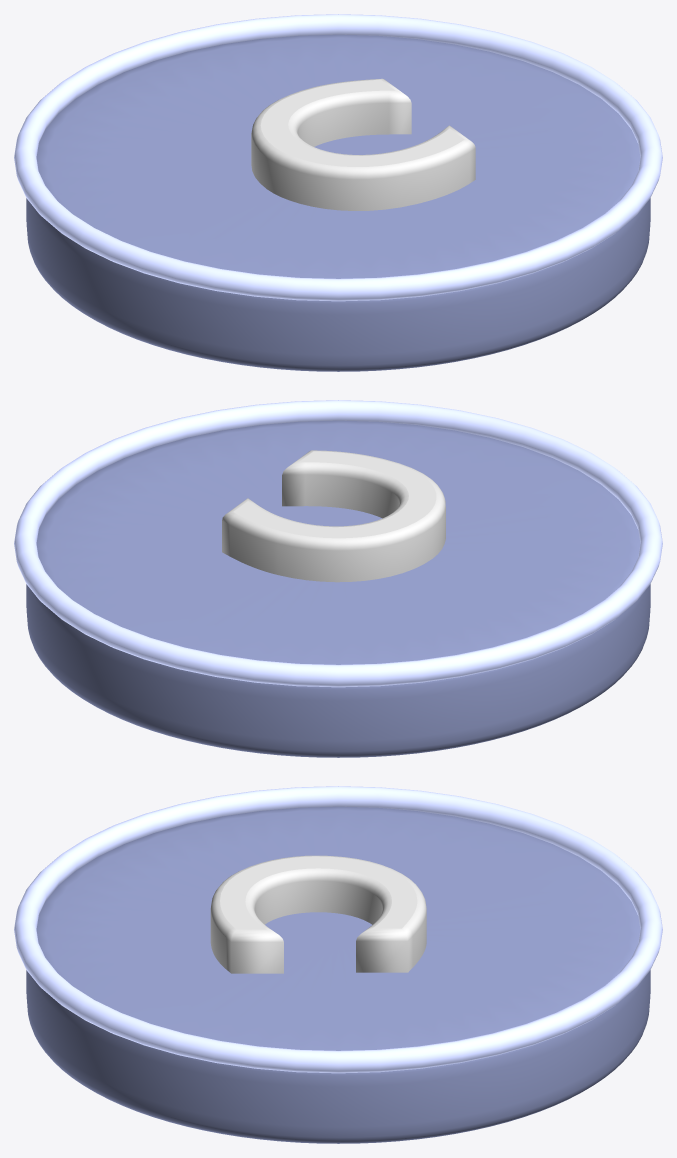
The picture shows the model from 3 angles, top to bottom: view 1: azimuth 30°, elevation 25°; view 2: azimuth 150°, elevation 25°; view 3: azimuth 270°, elevation 25°; orthographic projection.
Visible parts, largest first — view 1: Cylinder, Torus, Text; view 2: Cylinder, Torus, Text; view 3: Cylinder, Torus, Text.
Boxes of the visible parts, bbox=[...] form: Cylinder: bbox=[26, 34, 650, 371]; Torus: bbox=[14, 14, 662, 301]; Text: bbox=[251, 78, 475, 210]; Cylinder: bbox=[26, 420, 650, 757]; Torus: bbox=[14, 400, 662, 687]; Text: bbox=[222, 450, 445, 582]; Cylinder: bbox=[26, 806, 650, 1143]; Torus: bbox=[14, 786, 662, 1073]; Text: bbox=[210, 855, 426, 973].
Size of the model in its own units: 1.04 by 0.22 by 1.04.
